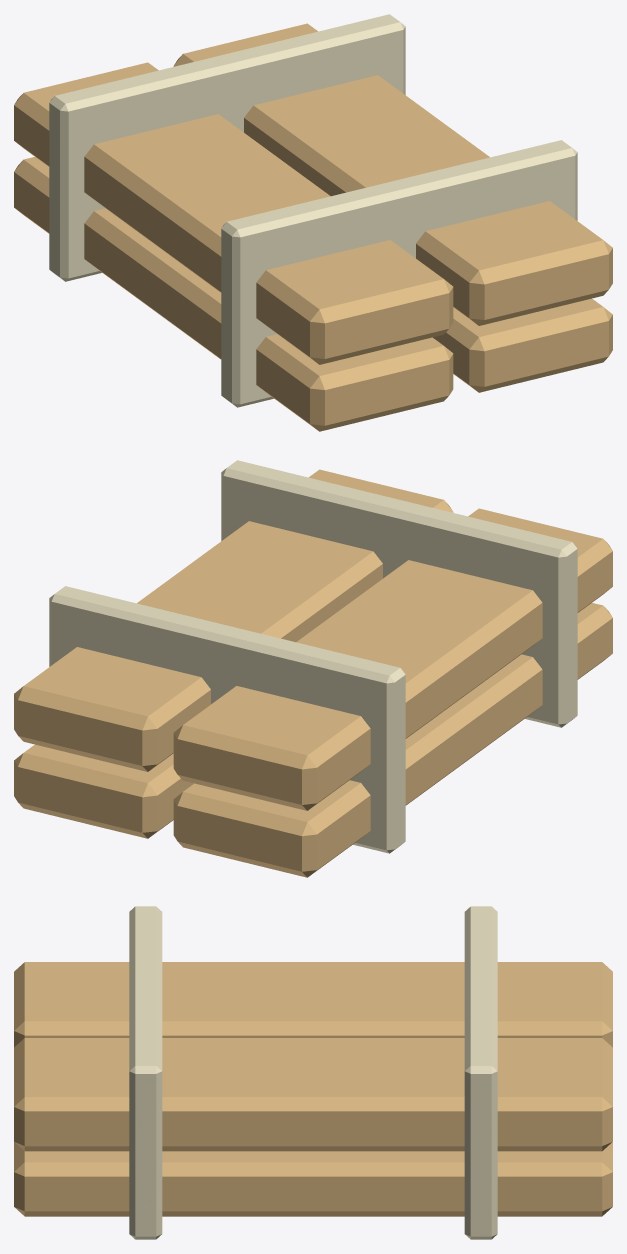
Rendered from CC_ResourcePlanks.fbx.
3 renders of one model, top to bottom at view 1: azimuth 30°, elevation 25°; view 2: azimuth 150°, elevation 25°; view 3: azimuth 270°, elevation 25°, orthographic. The views are drawn at different scales.
Visible parts, largest first — view 1: Plank.030, Plank.031, Binding.001, Binding, Plank.028, Plank.029; view 2: Plank.030, Plank.031, Binding, Binding.001, Plank.028, Plank.029; view 3: Plank.031, Plank.030, Plank.029, Binding, Binding.001.
Part boxes in pixels (x1,y1,x2,y2): Plank.030: (14, 62, 453, 364); Plank.031: (173, 23, 612, 325); Binding.001: (49, 14, 405, 281); Binding: (221, 140, 577, 407); Plank.028: (14, 157, 453, 431); Plank.029: (433, 298, 612, 392); Plank.030: (173, 508, 612, 810); Plank.031: (14, 469, 453, 771); Binding: (221, 460, 577, 727); Binding.001: (49, 586, 405, 853); Plank.028: (173, 603, 612, 877); Plank.029: (14, 744, 193, 838); Plank.031: (14, 1038, 612, 1151); Plank.030: (14, 962, 612, 1047); Plank.029: (14, 1142, 612, 1216); Binding: (129, 906, 162, 1239); Binding.001: (464, 906, 497, 1239).
Bounding box in the file's own units: 0.65 × 0.32 × 1.
